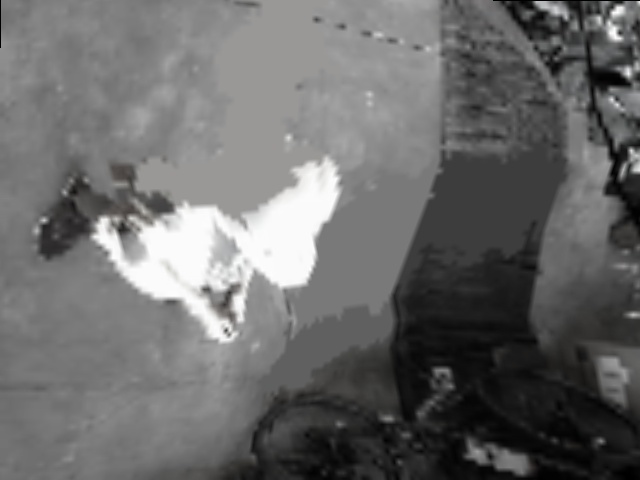eight: (248, 136, 311, 168)
